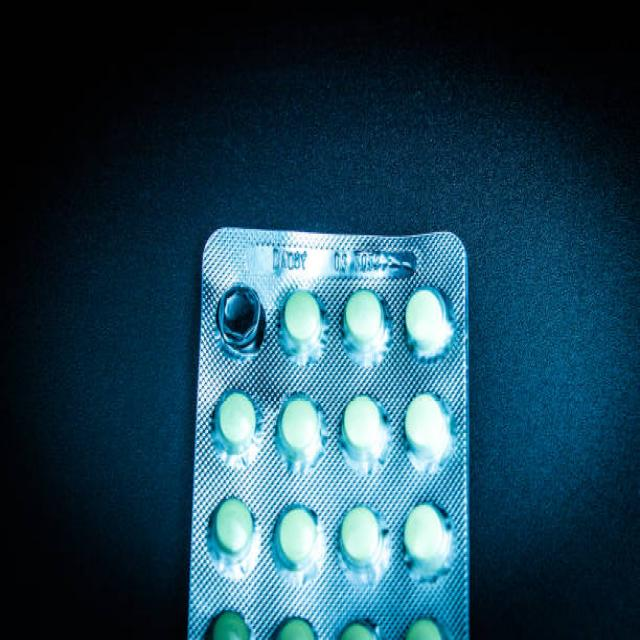Empty: (210, 267, 267, 368)
Pill: (403, 380, 463, 480), (394, 274, 456, 369), (399, 489, 456, 588), (273, 274, 330, 364), (206, 380, 264, 468), (340, 274, 390, 374), (338, 390, 394, 478), (272, 495, 326, 577), (269, 389, 327, 465), (338, 492, 386, 583), (210, 486, 259, 574)
